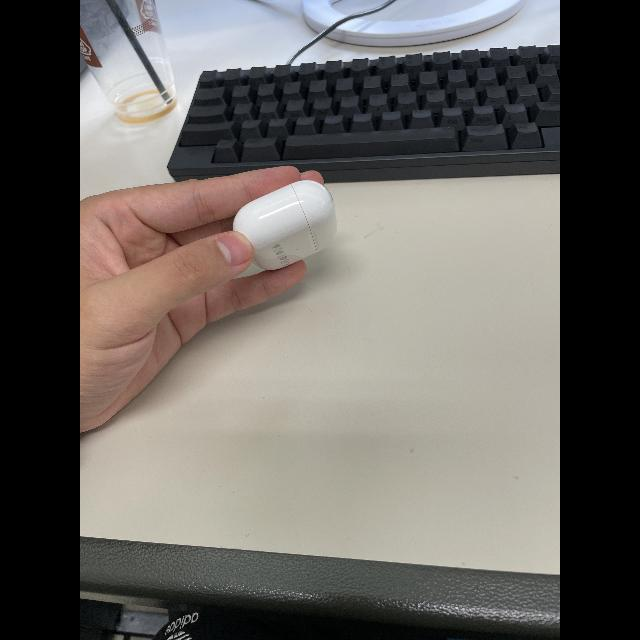airpod3: (228, 175, 342, 272)
